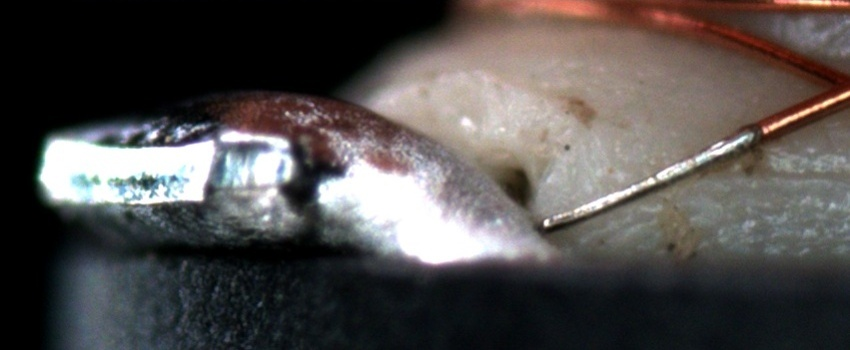CL: (802, 54, 849, 117)
DL: (696, 144, 849, 204)
TS: (540, 124, 762, 229)
